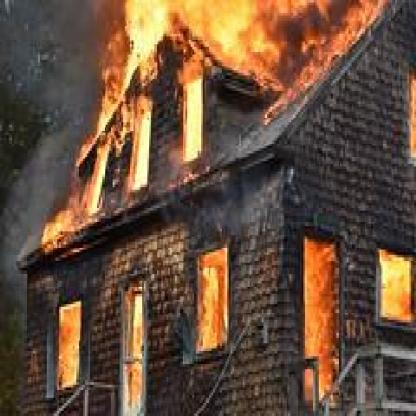fire: (46, 7, 204, 256), (203, 2, 380, 94), (291, 211, 343, 404), (104, 274, 158, 411), (186, 245, 235, 357), (364, 229, 412, 332), (42, 275, 82, 390)
